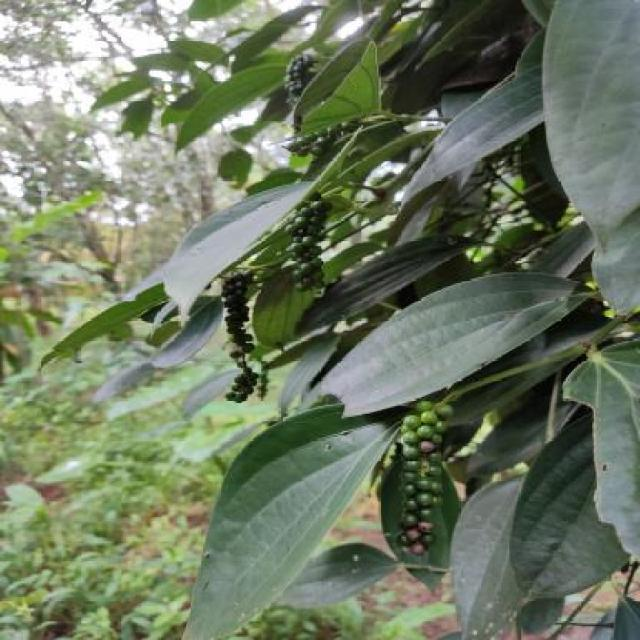UNRIPE: (388, 402, 459, 569), (218, 245, 277, 409), (280, 194, 334, 295), (270, 43, 319, 112)
